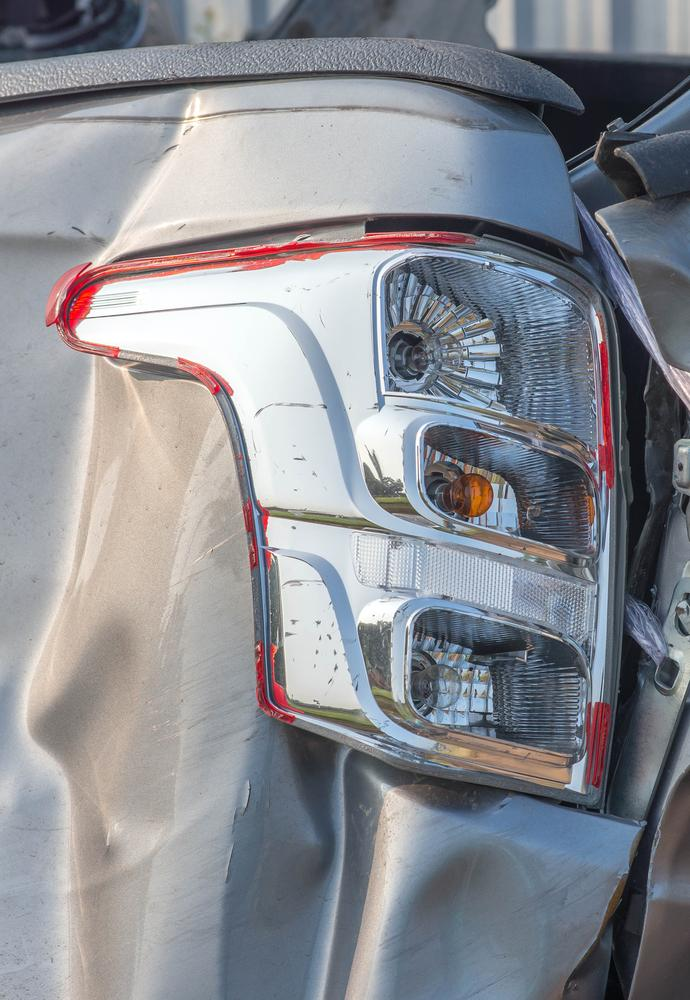dent: (0, 360, 214, 1000), (223, 722, 559, 1000), (58, 88, 270, 258)
lamp broken: (69, 223, 618, 801)
